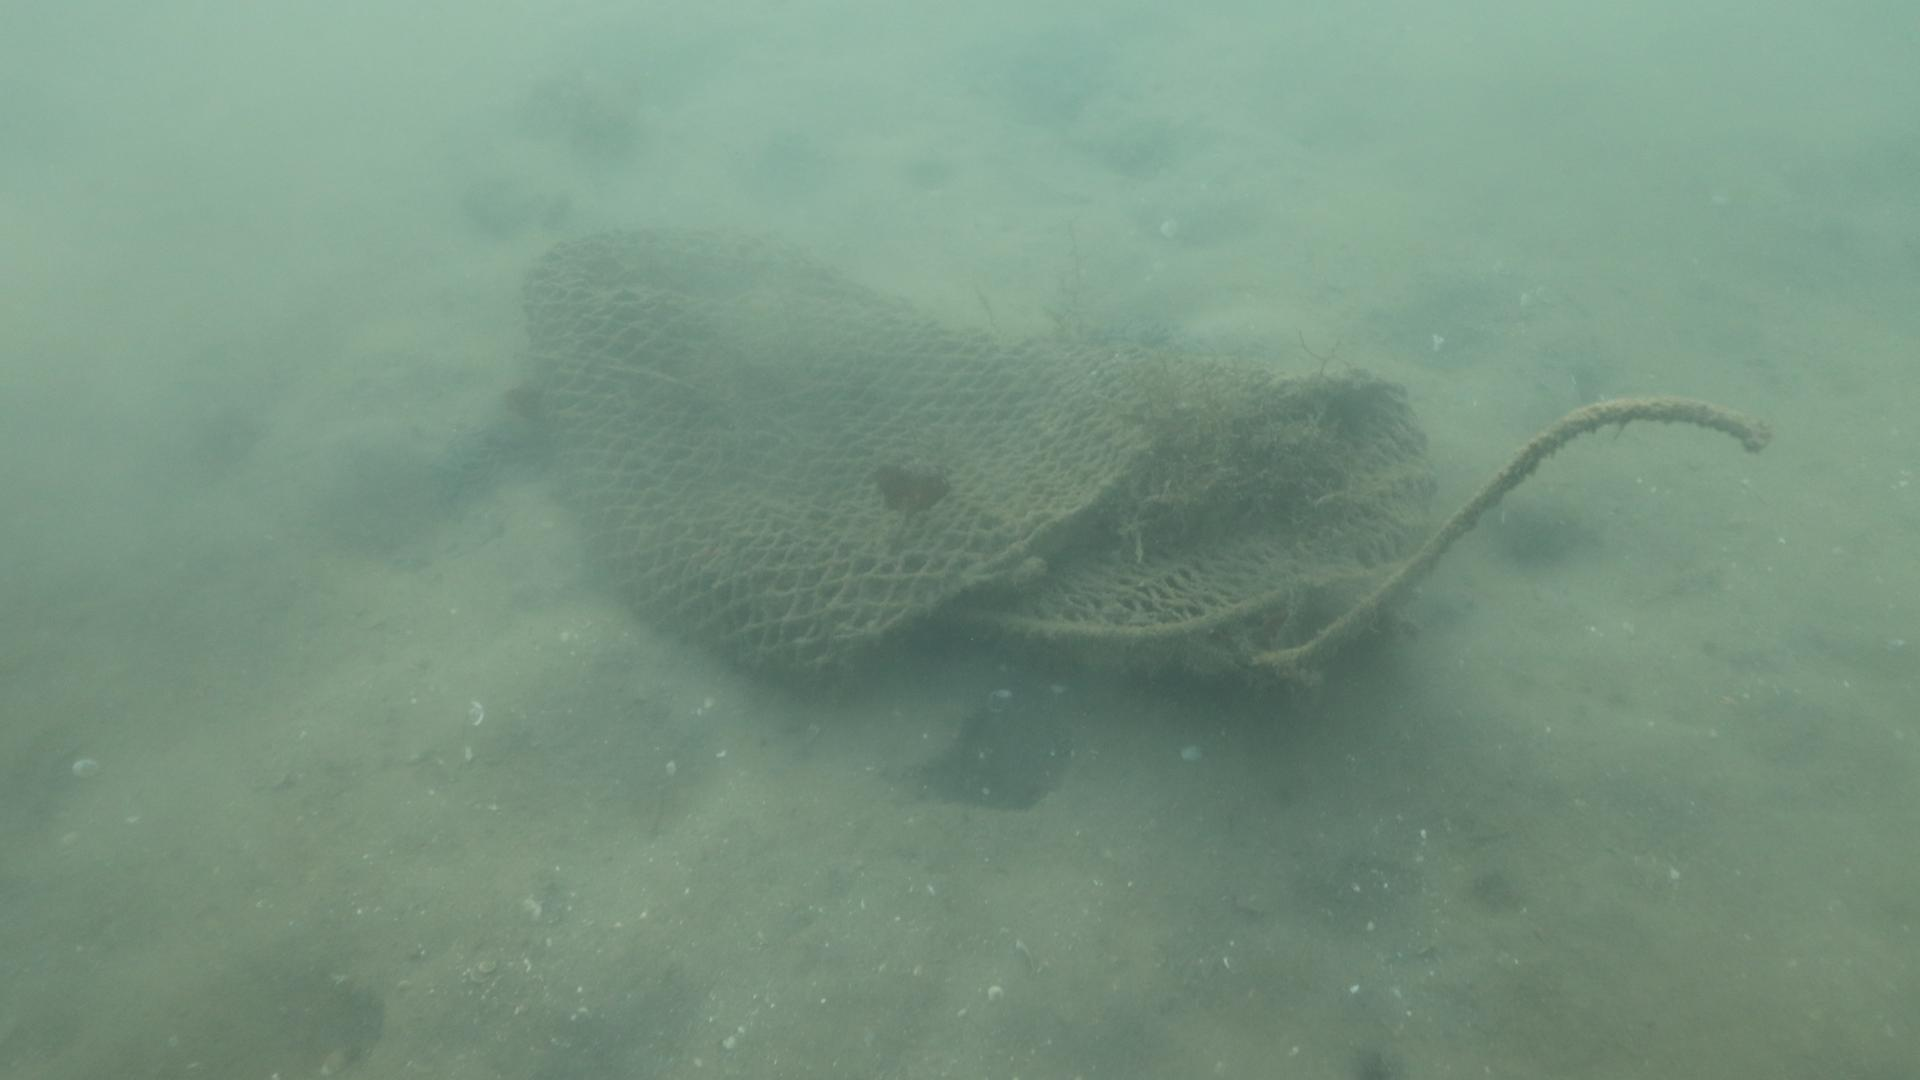fish net: (520, 225, 1437, 674)
